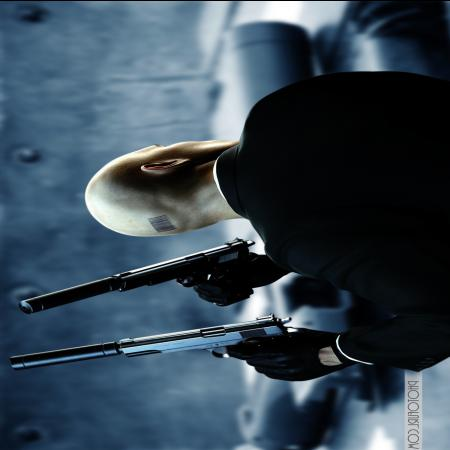Pistol: (17, 234, 256, 320), (7, 312, 305, 380)
